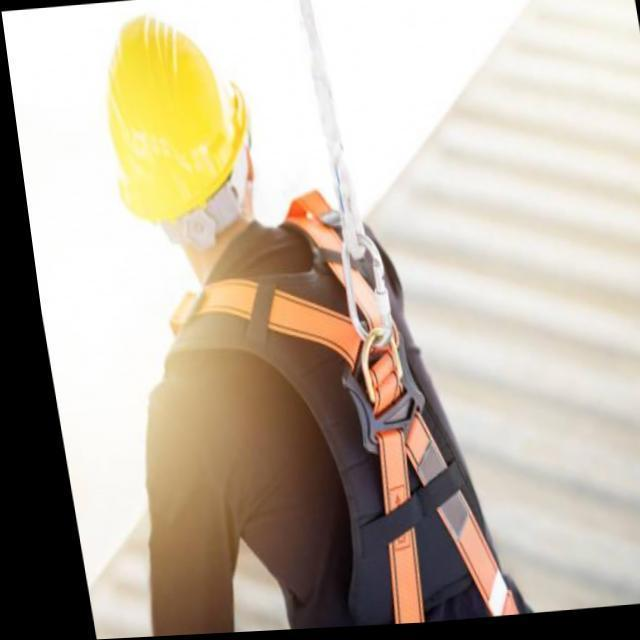Harness: (195, 191, 520, 624)
